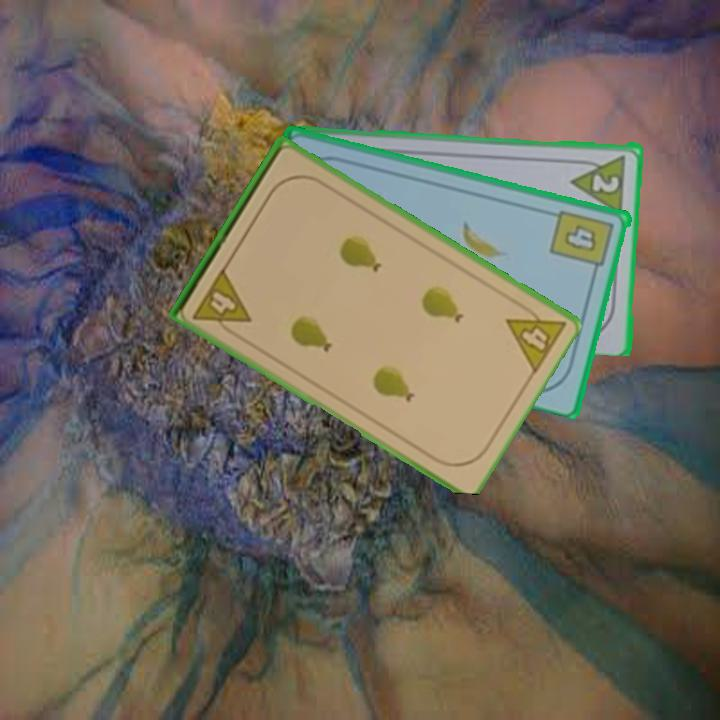2p: (588, 170, 623, 195)
4b: (547, 206, 618, 279)
4p: (502, 296, 569, 377), (189, 264, 254, 341)
